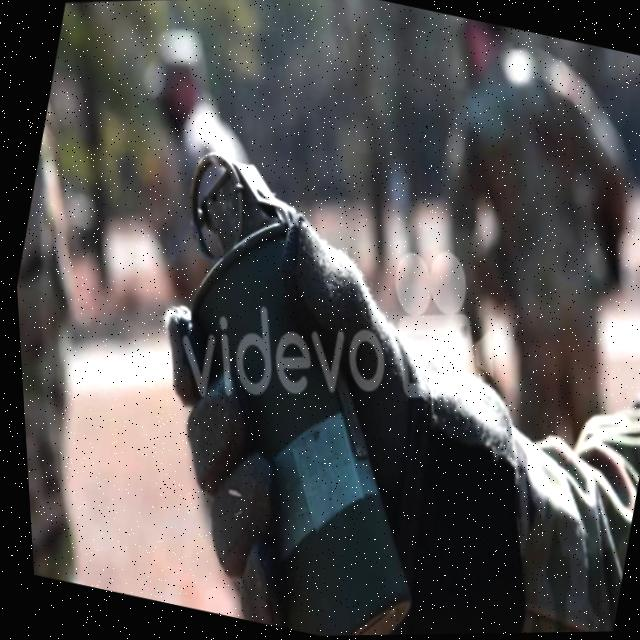grenade: (64, 90, 520, 639)
